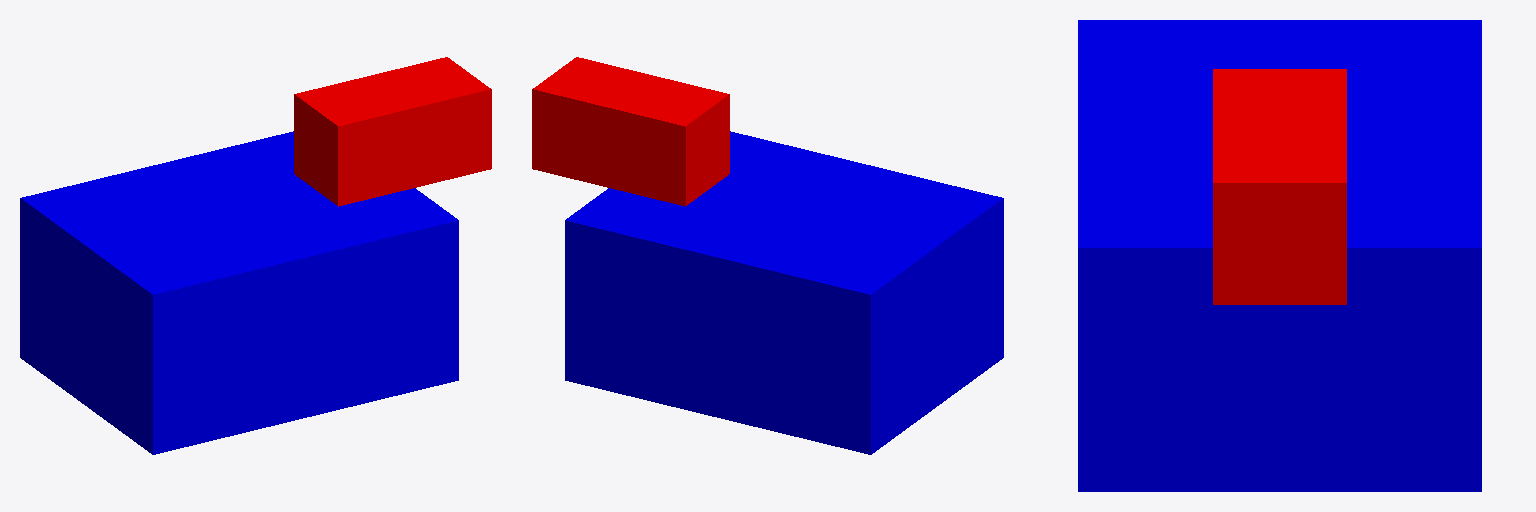
The robot description file, URDF, robot "simple_robot":
<?xml version="1.0"?>

<robot name="simple_robot">

  <!-- Base Link -->
  <link name="base_link">
    <visual>

      <geometry>
        <box size="0.4 0.3 0.2"/>
      </geometry>

      <material name="blue">
        <color rgba="0 0 1 1"/>
      </material>

    </visual>
  </link>

  <!-- Camera Link -->
  <link name="camera_link">
    <visual>

      <geometry>
        <box size="0.2 0.1 0.1"/>
      </geometry>

      <material name="red">
        <color rgba="1 0 0 1"/>
      </material>

    </visual>
  </link>

  <!-- Joint -->
  <joint name="camera_joint" type="revolute">
    <parent link="base_link"/>
    <child link="camera_link"/>

    <origin 
     xyz="0.2 0 0.15" 
     rpy="0 0 0"/>

    <aixs xyz="0 0 1"/>

    <limit lower="-1.57"
           upper="1.57"
           effort="10"
           velocity="1"/>
  </joint>

</robot>

--- Render facts (derived) ---
3 views of the same robot in one strip: view 1: azimuth 30°, elevation 25°; view 2: azimuth 150°, elevation 25°; view 3: azimuth 270°, elevation 25° (orthographic).
Model simple_robot with 2 links and 1 joints (1 revolute), rooted at base_link, posed every joint at zero.
Visible links, largest first — view 1: base_link, camera_link; view 2: base_link, camera_link; view 3: base_link, camera_link.
Boxes of the visible links, x1,y1,x2,y2 form: base_link: (20,131,458,454); camera_link: (294,57,491,206); base_link: (565,131,1003,454); camera_link: (532,57,729,206); base_link: (1078,20,1481,491); camera_link: (1213,69,1346,304).
Size in the robot's own frame: 0.5 by 0.3 by 0.3 metres.
Geometry: primitives only (box / cylinder / sphere), no mesh files.
